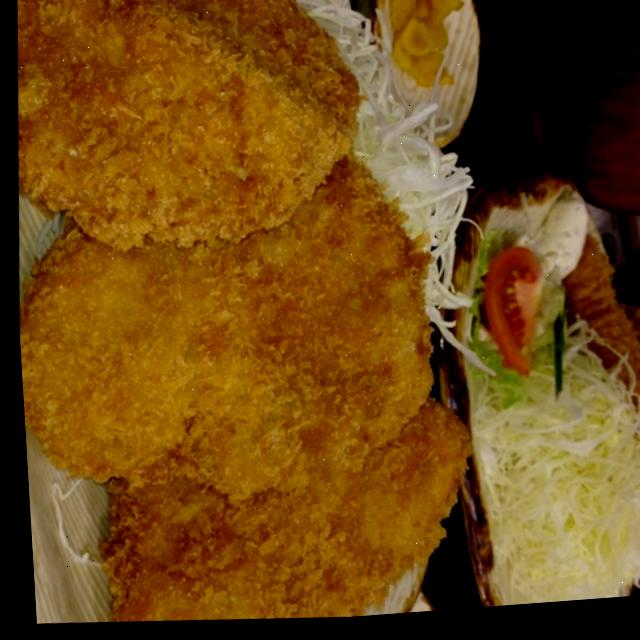牛肉菜式: (0, 0, 487, 640)
